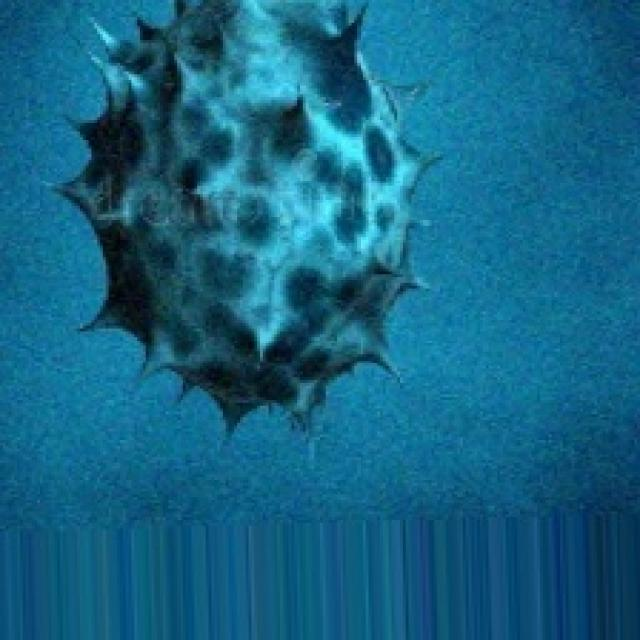Spherical_bacteria: (46, 0, 443, 440)
